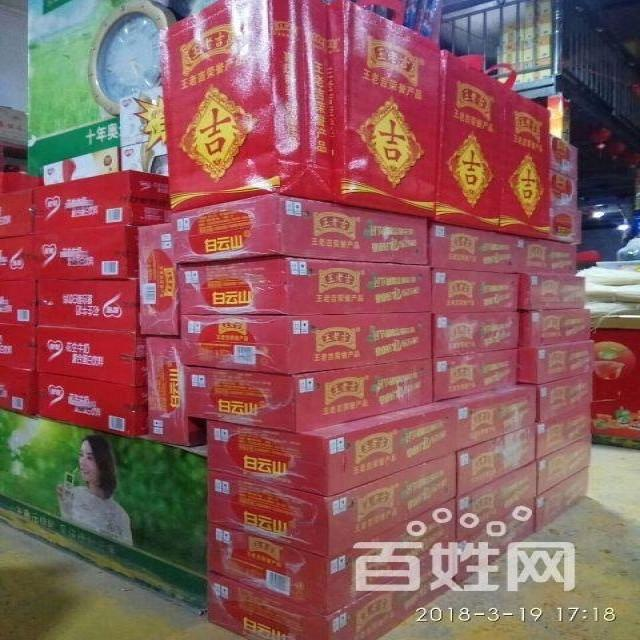box: (167, 0, 335, 214), (208, 498, 456, 614), (207, 453, 456, 557), (328, 1, 441, 216), (207, 545, 456, 640), (208, 402, 456, 496), (183, 358, 433, 433), (171, 195, 428, 265), (180, 312, 431, 374), (177, 257, 432, 315), (435, 50, 508, 231), (32, 171, 169, 235), (497, 90, 552, 239), (39, 371, 149, 437), (37, 325, 148, 387), (437, 384, 539, 450), (457, 499, 535, 584), (147, 335, 205, 446), (457, 462, 536, 542), (457, 423, 537, 498), (36, 226, 137, 280), (36, 281, 140, 331), (139, 222, 180, 337), (432, 349, 520, 401), (431, 224, 520, 273), (431, 310, 521, 358), (432, 269, 520, 312), (536, 467, 589, 533), (519, 339, 592, 384), (536, 437, 589, 496), (44, 145, 120, 186), (535, 406, 591, 461), (119, 84, 165, 147), (539, 373, 593, 424), (521, 310, 589, 347), (520, 274, 587, 310), (517, 237, 576, 275), (0, 365, 39, 416), (0, 187, 35, 239), (121, 139, 169, 176), (0, 323, 37, 370), (0, 235, 37, 280), (0, 280, 36, 325), (551, 205, 583, 245), (551, 134, 579, 179), (551, 170, 577, 208), (0, 171, 44, 193)
